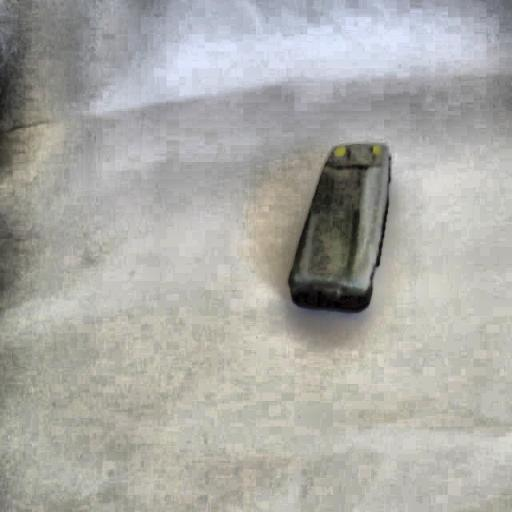normal_car: (284, 140, 392, 315)
